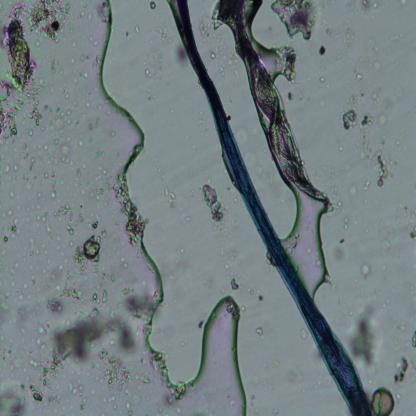Air bubble: (121, 214, 250, 416), (90, 0, 147, 215), (288, 188, 336, 292)
Background material: (47, 307, 136, 385), (0, 5, 45, 137), (99, 172, 144, 244), (348, 300, 384, 370), (271, 0, 318, 41), (340, 96, 373, 152), (202, 182, 230, 233), (72, 232, 104, 276), (32, 4, 70, 40), (119, 286, 154, 324), (371, 74, 396, 126), (274, 42, 302, 86), (48, 283, 86, 314), (30, 363, 58, 404), (43, 103, 76, 136), (43, 139, 75, 170), (369, 146, 391, 191), (0, 381, 29, 415), (362, 30, 384, 74), (1, 342, 26, 380), (15, 139, 38, 180), (17, 301, 45, 326), (0, 216, 23, 245), (3, 274, 30, 298), (32, 318, 49, 356), (68, 378, 88, 410), (74, 168, 93, 199), (23, 234, 42, 264), (340, 20, 358, 48), (391, 355, 409, 383), (36, 205, 53, 234), (25, 182, 46, 203), (45, 205, 74, 220), (121, 385, 133, 415), (50, 57, 67, 78), (162, 186, 176, 211), (405, 211, 416, 242), (100, 394, 118, 412), (90, 288, 108, 306), (172, 44, 187, 65), (356, 0, 380, 12), (102, 265, 117, 284), (57, 260, 71, 280), (228, 273, 240, 296), (95, 0, 107, 23), (2, 160, 18, 177), (148, 52, 159, 75), (156, 25, 170, 43), (359, 262, 372, 280), (354, 57, 364, 79), (78, 7, 92, 22), (72, 136, 86, 150), (49, 183, 59, 202), (54, 234, 63, 254), (93, 151, 108, 163), (254, 327, 266, 341), (94, 164, 108, 176), (0, 301, 11, 316), (60, 84, 71, 98), (0, 248, 7, 269), (118, 254, 128, 268), (84, 35, 96, 46), (79, 52, 92, 62), (82, 96, 91, 110), (26, 357, 37, 368), (106, 127, 117, 138), (6, 188, 16, 200), (81, 66, 91, 78), (410, 330, 416, 350), (11, 258, 20, 271), (42, 172, 56, 180), (302, 326, 309, 342), (66, 224, 76, 235), (148, 0, 157, 10), (42, 241, 48, 255), (134, 23, 141, 35), (30, 275, 37, 286), (145, 66, 151, 78), (68, 240, 74, 248), (35, 41, 42, 47), (69, 57, 75, 64), (42, 268, 48, 275), (8, 209, 14, 216), (71, 40, 76, 48), (89, 122, 94, 130), (26, 217, 32, 223), (78, 119, 81, 130), (50, 83, 53, 94), (47, 259, 51, 265), (74, 101, 77, 106)
Cellulose filter fibre: (219, 1, 327, 203)
Cotton: (177, 0, 372, 416)
Diatom: (372, 388, 395, 415)
